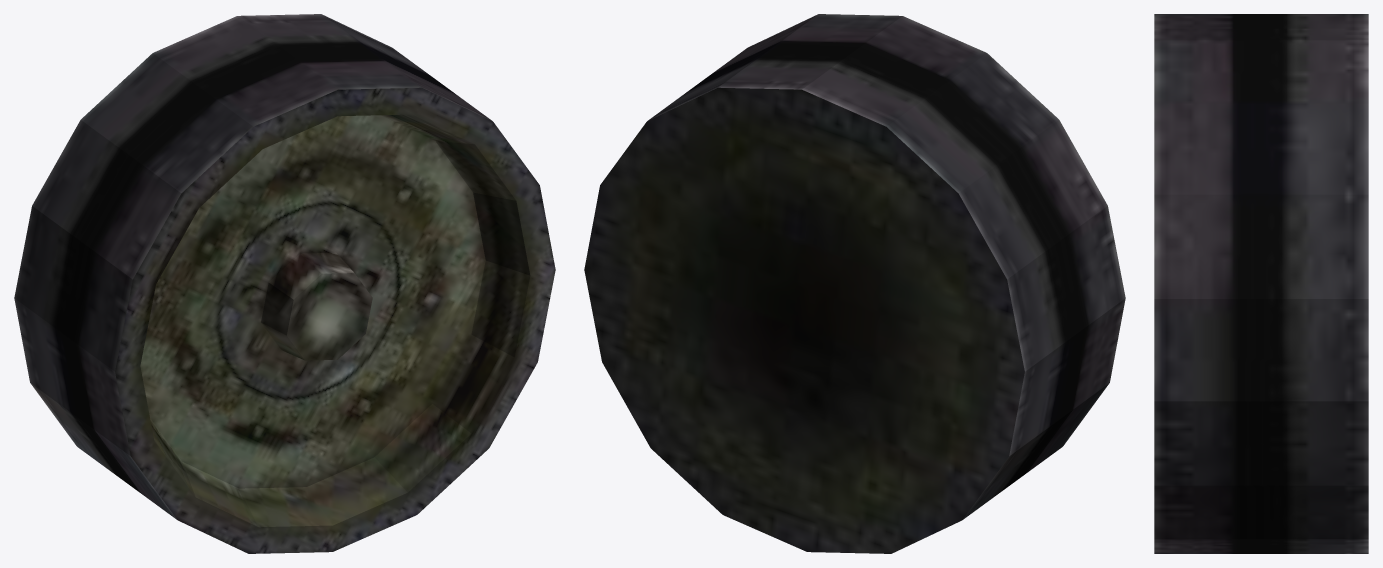
The model's file is wheel_l.obj.
3 renders of one model, left to right at view 1: azimuth 30°, elevation 25°; view 2: azimuth 150°, elevation 25°; view 3: azimuth 270°, elevation 25°, orthographic. The views are drawn at different scales.
Parts seen in each view (by area): view 1: LOD01_t-37; view 2: LOD01_t-37; view 3: LOD01_t-37.
Part boxes in pixels (x1,y1,x2,y2): LOD01_t-37: [14, 14, 555, 553]; LOD01_t-37: [584, 14, 1125, 553]; LOD01_t-37: [1154, 14, 1368, 553].
Bounding box in the file's own units: 1.57 × 1.57 × 0.6205.
1 material, 1 textured.
